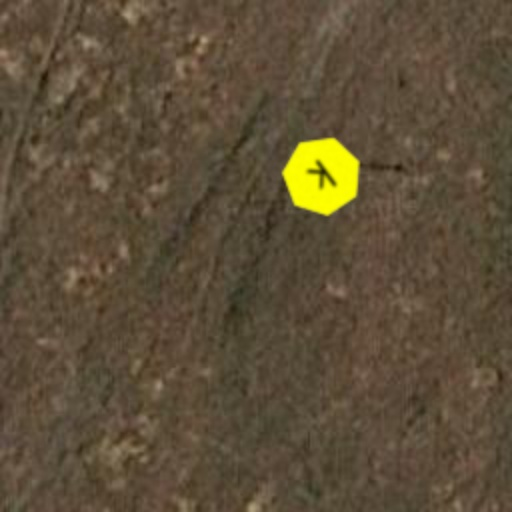heptagon: (264, 118, 380, 234)
